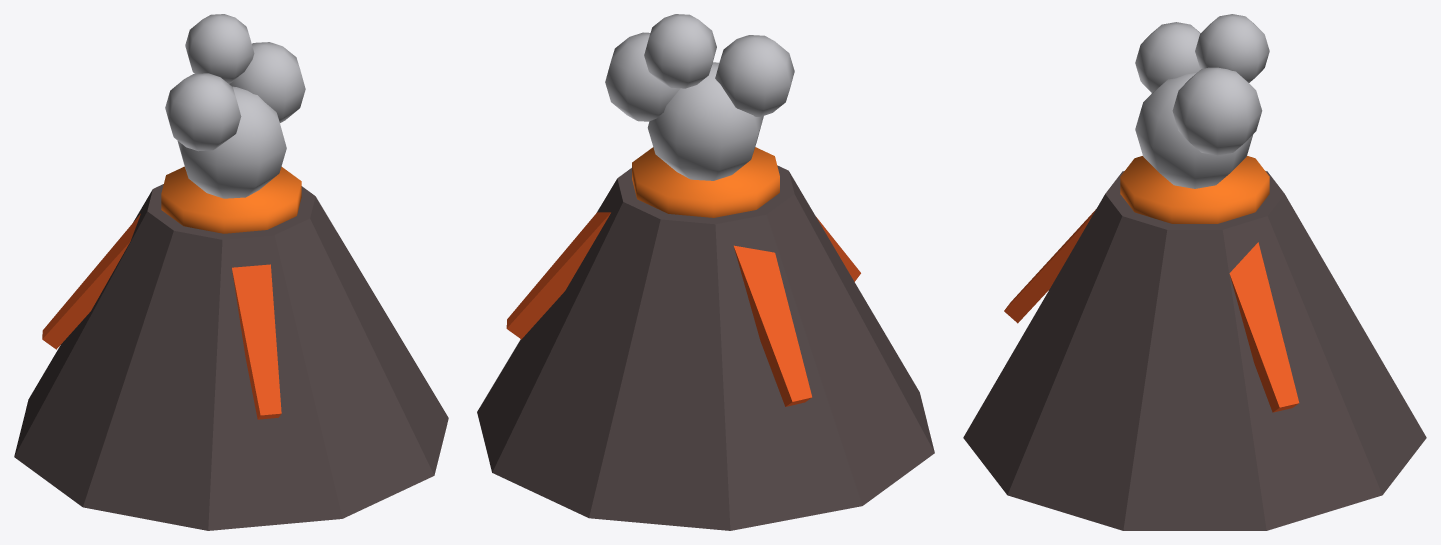
The model's file is volcano.glb.
3 views of the same model, side by side, from view 1: azimuth 30°, elevation 25°; view 2: azimuth 150°, elevation 25°; view 3: azimuth 270°, elevation 25° (orthographic). The views are drawn at different scales.
Parts seen in each view (by area): view 1: volcano; view 2: volcano; view 3: volcano.
Boxes of the visible parts, box(x1,y1,x2,y2) form: volcano: box(14, 14, 448, 530); volcano: box(477, 14, 934, 530); volcano: box(963, 14, 1426, 530).
Size of the model in its own units: 1.18 by 1.25 by 1.24.
